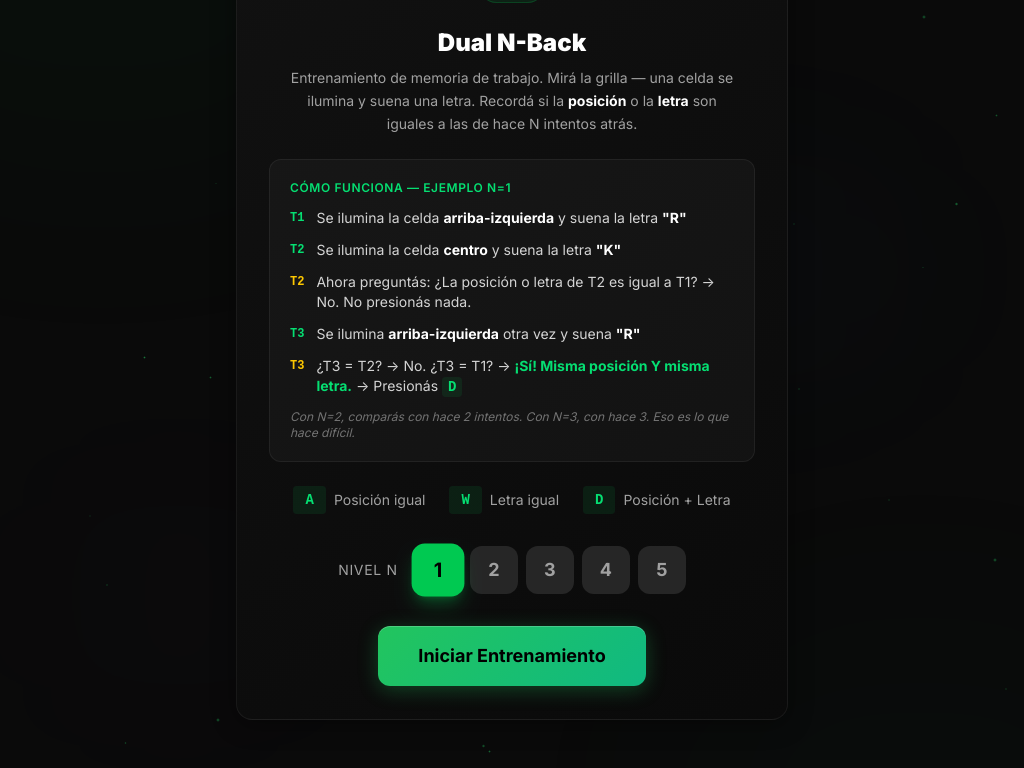
Test: DualNBackGame › transitions to playing phase and displays interactive buttons on start
(page scrolled)
Click the button "Iniciar Entrenamiento" at [512, 656], box [378,626,646,686]
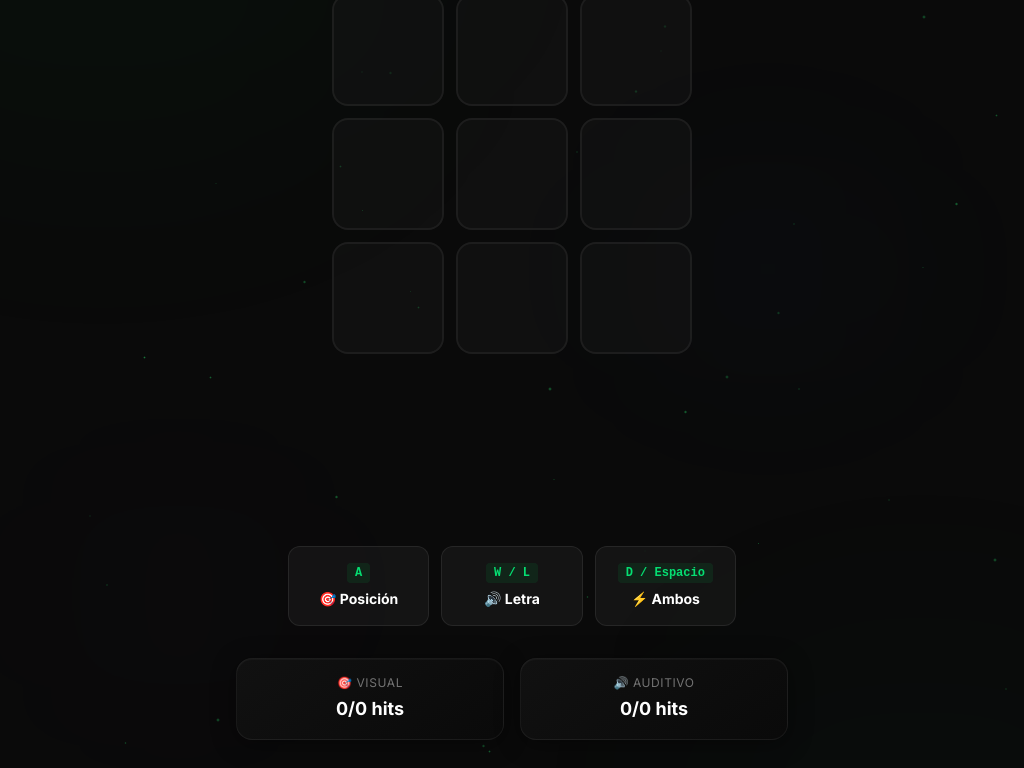
Expected: the text "🎯 Posición" is shown, [319,589,398,609]
Expected: the text "🔊 Letra" is shown, [484,589,540,609]
Expected: the text "⚡ Ambos" is shown, [631,589,700,609]
